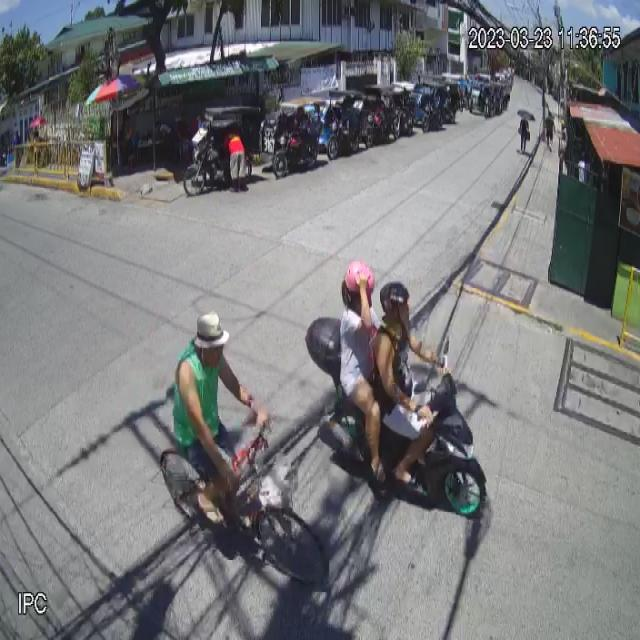Motorcycle: (303, 312, 488, 518)
